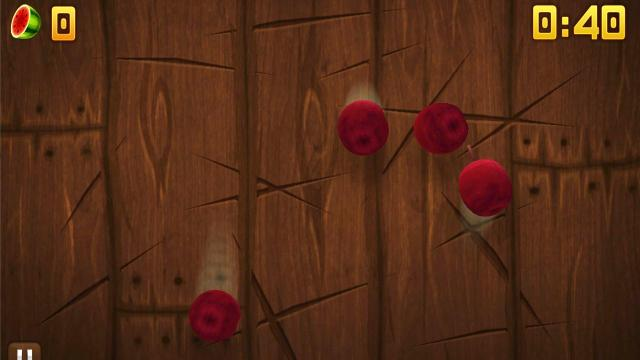fruit: (456, 157, 514, 217), (413, 101, 469, 155), (188, 288, 242, 342), (338, 99, 390, 155)
ignore: (8, 3, 44, 41)
